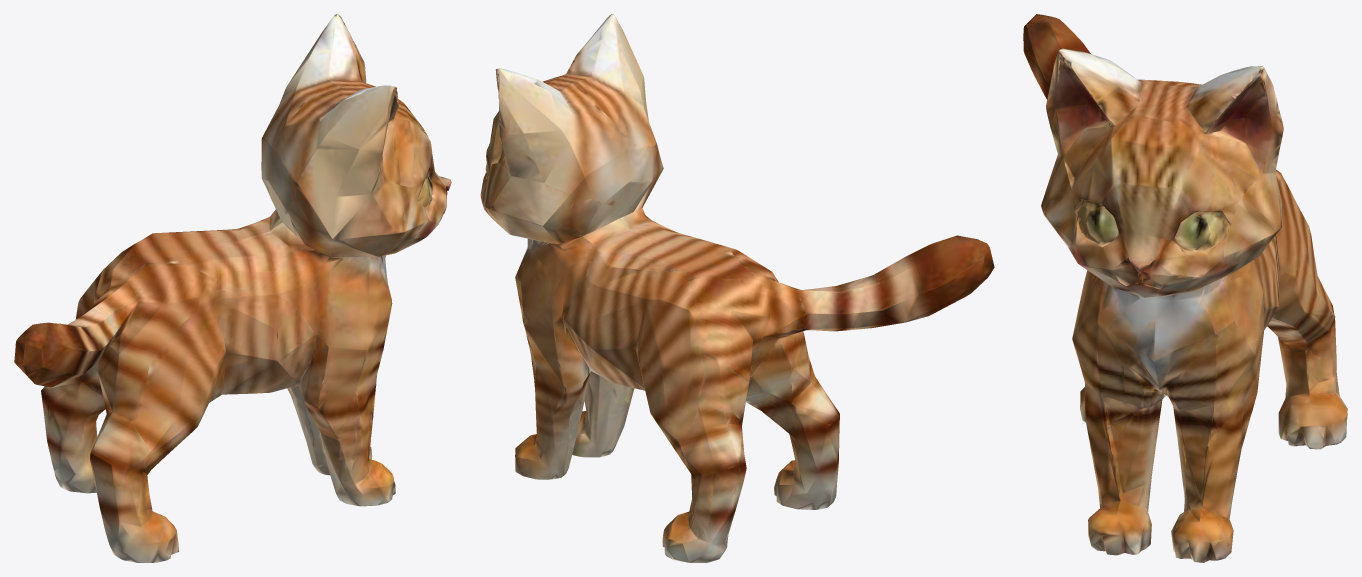
Rendered from ROOKIEPAW-lo.glb.
3 views of the same model, side by side, from view 1: azimuth 30°, elevation 25°; view 2: azimuth 150°, elevation 25°; view 3: azimuth 270°, elevation 25° (orthographic). The views are drawn at different scales.
Visible parts, largest first — view 1: fit; view 2: fit; view 3: fit.
Part boxes in pixels (left/top/right/bottom): fit: left=14, top=14, right=451, bottom=562; fit: left=480, top=14, right=994, bottom=562; fit: left=1023, top=14, right=1347, bottom=562.
Size of the model in its own units: 1.16 by 0.9998 by 0.5944.
1 material, 1 textured.
